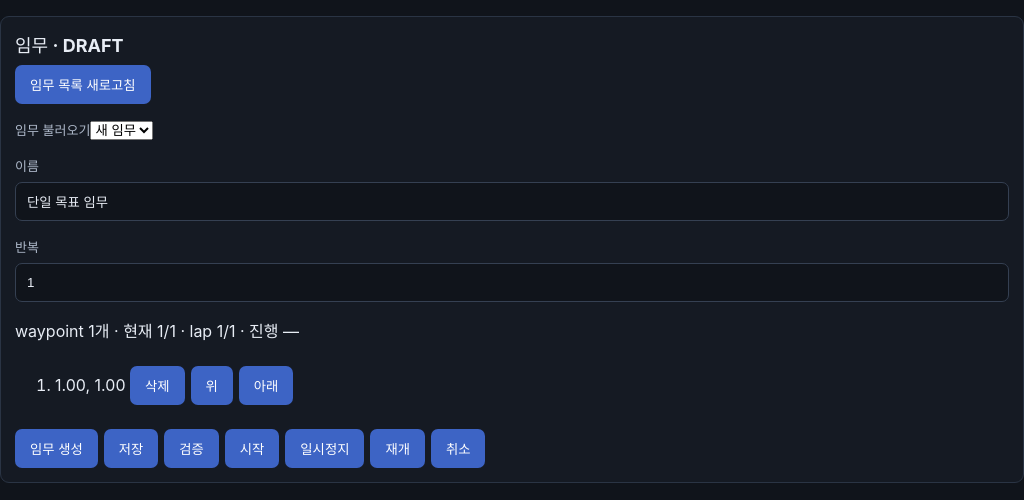
Test: deleting the last waypoint disables create and save
Click the button "삭제".
click(157, 386)  # box 130,366 -> 184,405
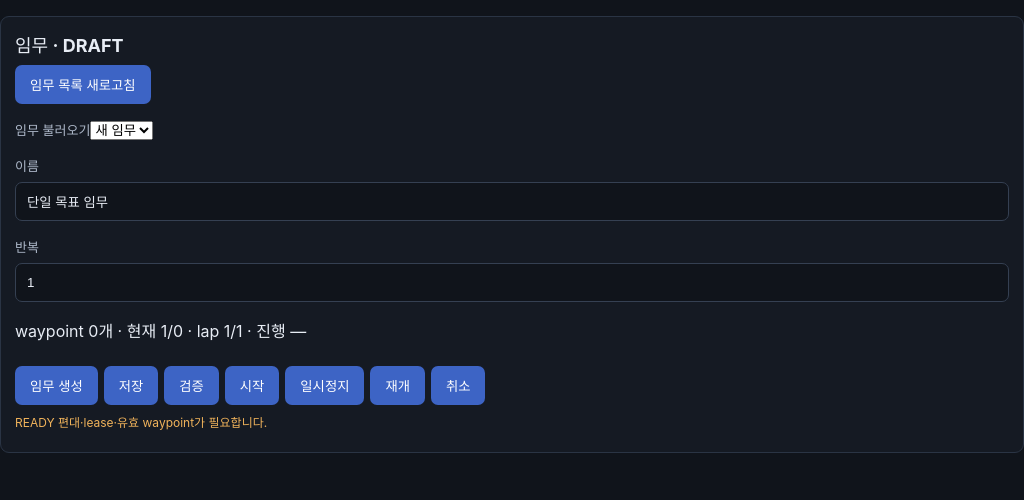
expect the button "저장" is disabled: met, box 104,366 -> 158,405
expect the button "임무 생성" is disabled: met, box 15,366 -> 98,405
